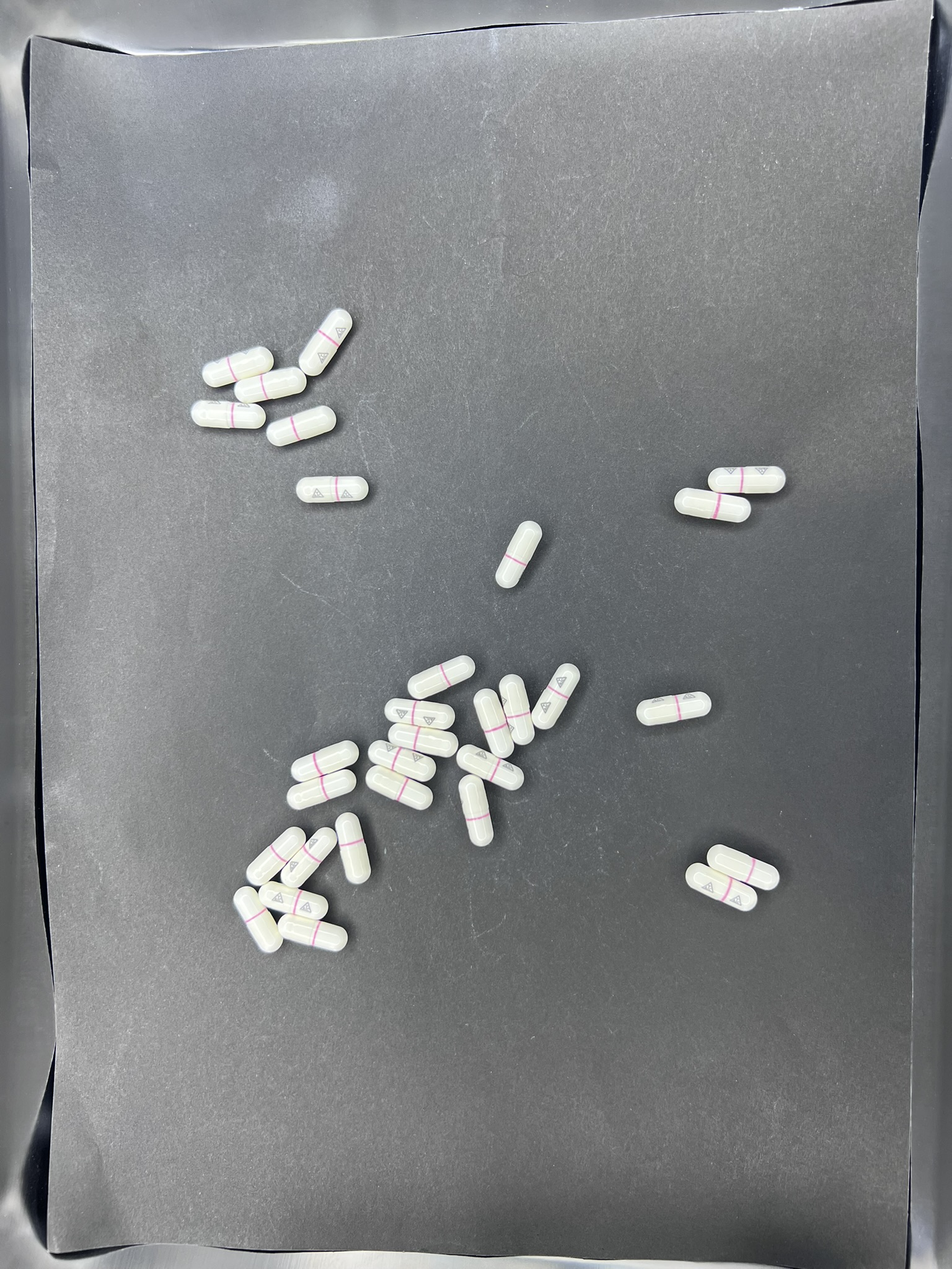Capsule: (298, 308, 352, 377), (245, 826, 306, 886), (706, 843, 779, 892), (280, 827, 337, 889), (687, 863, 756, 913), (232, 885, 282, 954), (494, 521, 543, 590), (457, 744, 525, 791), (365, 766, 435, 811), (407, 654, 476, 699), (203, 346, 274, 389), (534, 663, 580, 728), (267, 405, 338, 447), (291, 741, 360, 784), (288, 769, 358, 811), (473, 688, 514, 759), (277, 913, 348, 953), (234, 367, 307, 405), (368, 740, 438, 779), (258, 882, 328, 921), (674, 488, 749, 524), (458, 774, 494, 846), (335, 812, 371, 884), (635, 691, 708, 726), (499, 674, 534, 745), (387, 723, 457, 758), (708, 465, 787, 495), (384, 698, 456, 730), (191, 400, 266, 430), (296, 476, 368, 505)
